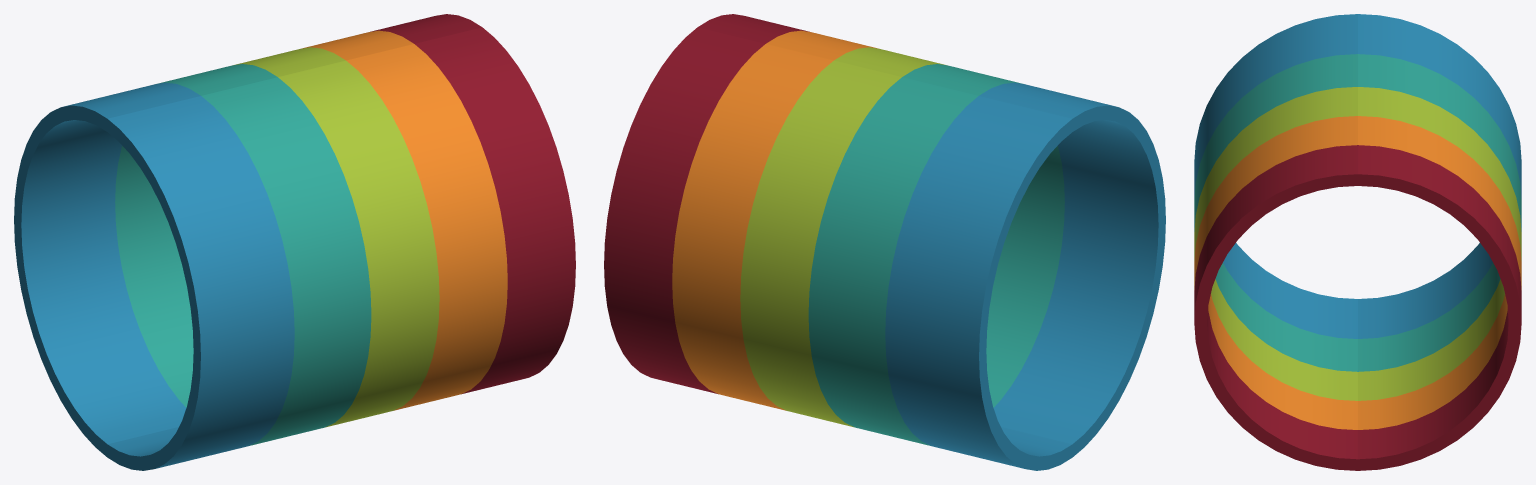
File: rotary_screw_compressor_pressure.glb
3 renders of one model, left to right at view 1: azimuth 30°, elevation 25°; view 2: azimuth 150°, elevation 25°; view 3: azimuth 270°, elevation 25°, orthographic. The views are drawn at different scales.
Visible parts, largest first — view 1: bands__front, bands__back; view 2: bands__back, bands__front; view 3: bands__back, bands__front.
Part boxes in pixels (box(x1,y1,x2,y2)): bands__front: box(107, 27, 575, 470); bands__back: box(14, 14, 481, 457); bands__back: box(604, 27, 1072, 470); bands__front: box(698, 14, 1165, 457); bands__back: box(1358, 14, 1521, 470); bands__front: box(1194, 14, 1357, 470).
Bounding box in the file's own units: 0.44 × 0.38 × 0.38.
